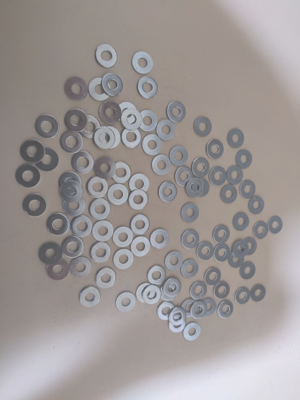circle: (15, 164, 41, 189), (64, 77, 89, 102), (77, 115, 101, 140), (35, 114, 59, 139), (20, 140, 45, 164), (60, 130, 84, 154), (23, 194, 47, 218), (71, 151, 95, 175), (95, 45, 118, 69), (64, 109, 88, 132), (93, 156, 117, 179), (58, 172, 82, 195), (61, 195, 86, 217), (59, 181, 84, 203), (99, 102, 122, 125), (88, 78, 111, 101), (47, 214, 70, 237), (36, 149, 59, 172), (93, 126, 115, 150), (38, 243, 62, 265), (131, 51, 153, 74), (98, 127, 121, 149), (89, 198, 111, 221), (46, 259, 69, 281), (62, 236, 84, 258), (71, 216, 93, 238), (102, 74, 123, 97), (129, 173, 150, 196), (111, 161, 132, 184), (91, 221, 114, 242), (69, 258, 92, 279), (137, 77, 158, 99), (121, 109, 142, 131), (137, 110, 158, 132), (79, 287, 101, 308), (95, 268, 117, 289), (130, 214, 151, 236), (108, 184, 129, 206), (87, 177, 108, 199), (112, 227, 134, 248), (90, 242, 111, 264), (174, 166, 195, 187), (121, 128, 142, 149), (113, 249, 134, 270), (167, 101, 187, 123), (129, 189, 149, 211), (142, 135, 162, 156), (169, 146, 189, 167), (158, 182, 178, 203), (180, 203, 200, 224), (136, 283, 156, 304), (116, 292, 136, 313), (157, 119, 176, 141), (152, 155, 171, 177), (118, 102, 137, 124), (131, 237, 151, 257), (150, 229, 170, 249), (206, 139, 225, 160), (194, 117, 213, 138), (185, 178, 204, 199), (191, 178, 210, 199), (165, 251, 184, 272), (148, 265, 166, 287), (181, 230, 200, 250), (180, 260, 199, 280), (180, 298, 199, 318), (143, 285, 162, 305), (157, 302, 176, 321), (227, 129, 245, 149), (209, 167, 227, 187), (192, 158, 210, 178), (169, 314, 187, 334), (213, 225, 231, 244), (226, 166, 244, 185), (196, 242, 214, 261), (169, 307, 187, 326), (164, 278, 182, 297), (160, 283, 178, 302), (221, 184, 238, 204), (190, 281, 207, 301), (214, 281, 231, 300), (205, 268, 222, 287), (214, 244, 231, 263), (236, 150, 253, 169), (200, 298, 217, 317), (184, 322, 201, 341), (232, 240, 249, 258), (233, 213, 250, 231), (251, 283, 267, 302), (240, 180, 256, 199), (191, 301, 207, 320), (218, 301, 235, 318), (240, 262, 256, 280), (235, 287, 251, 305), (249, 196, 264, 215), (229, 251, 245, 268), (268, 216, 283, 234), (254, 221, 269, 239), (243, 238, 258, 256)
